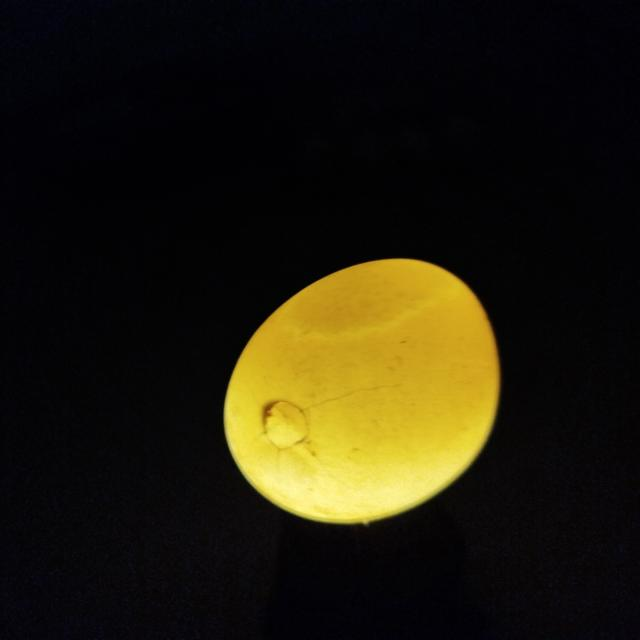Camara de Ar: (275, 260, 458, 336)
Rachadura: (257, 385, 401, 463)
